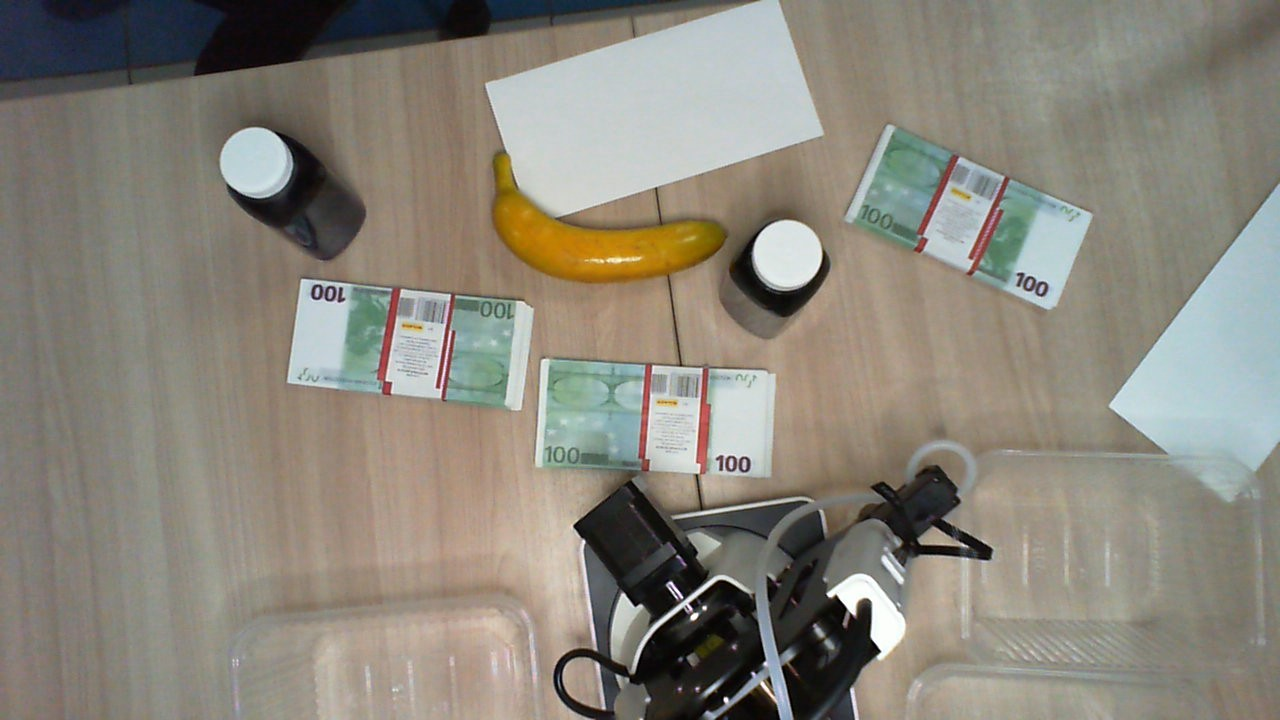banana: (485, 146, 728, 289)
bottle: (218, 126, 317, 221), (736, 220, 833, 315)
convert: (480, 1, 824, 225), (1108, 183, 1280, 502)
money: (846, 120, 1095, 315), (286, 284, 535, 410), (533, 357, 775, 478)
